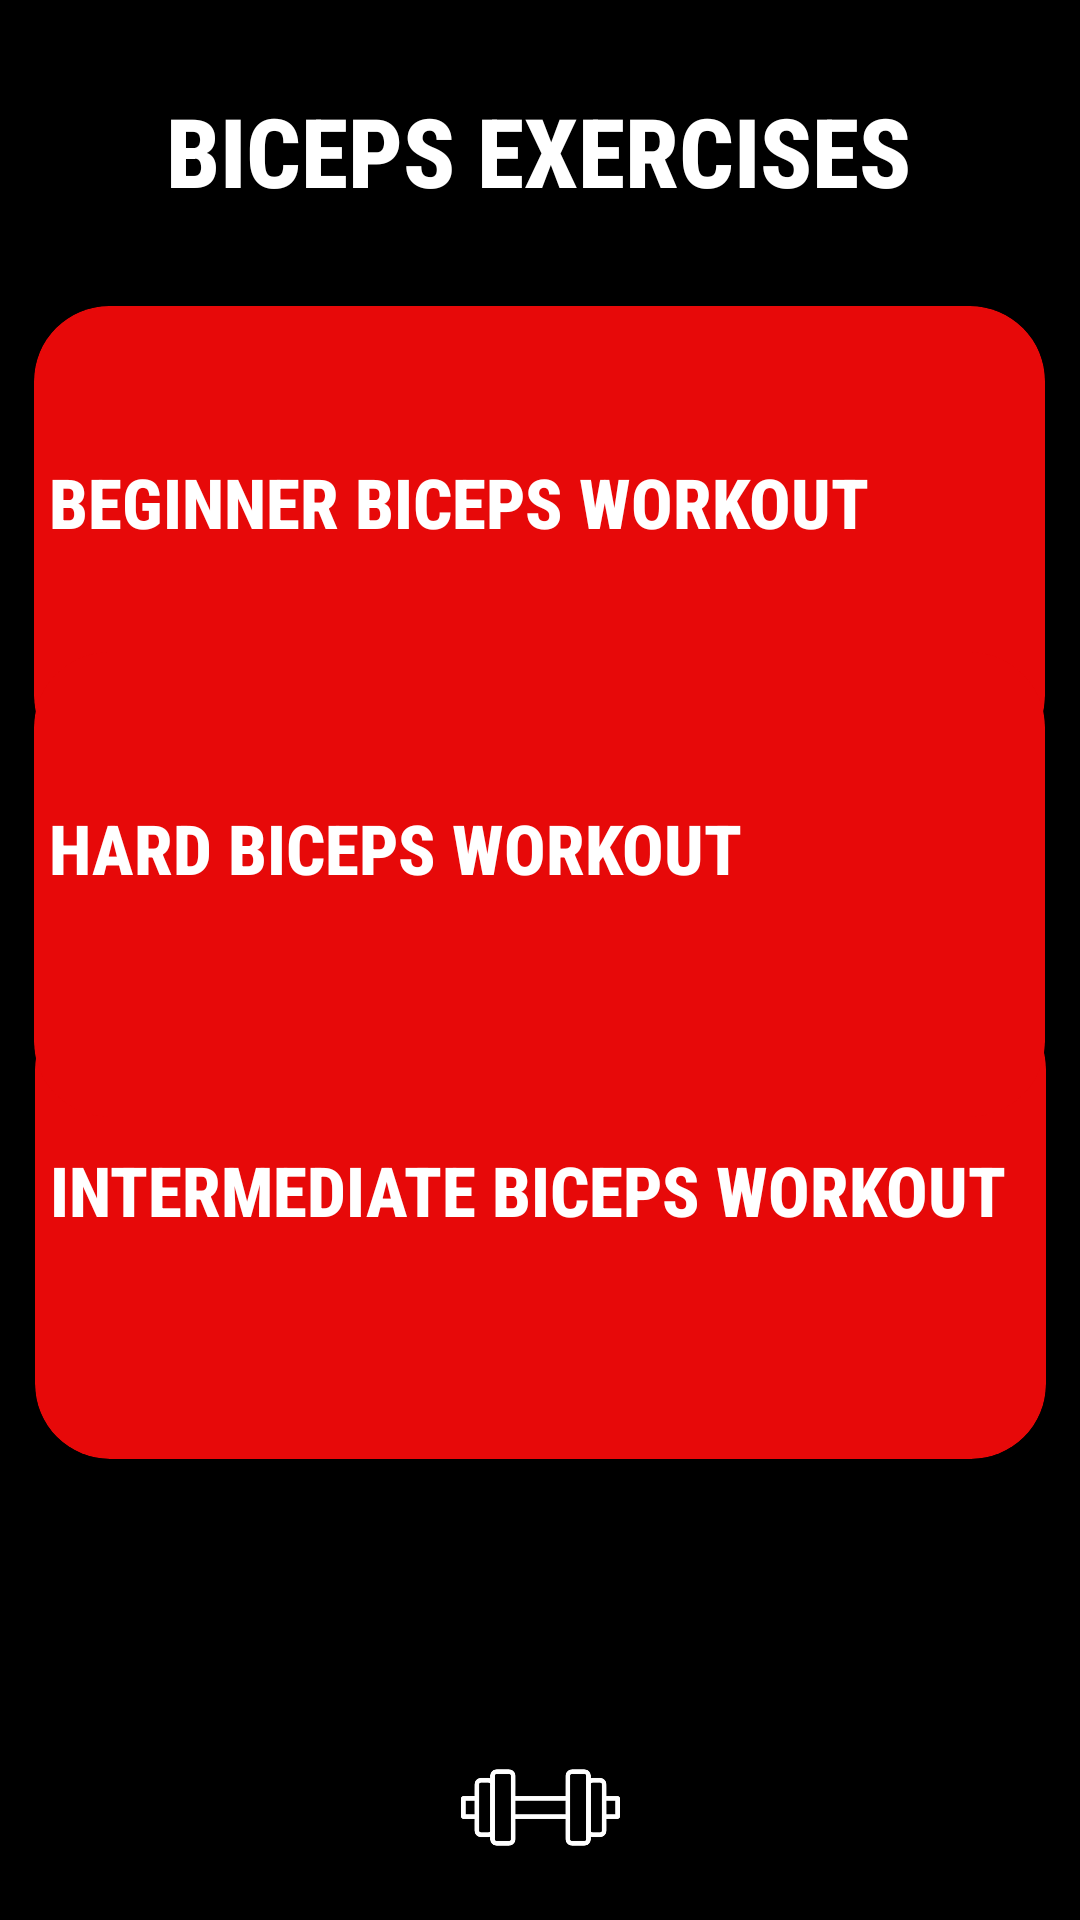

Named icons in this screenshot (1080×1920) and their bounding boxes, BBox(x1, y1, x2, y2):
imgdumbell: BBox(461, 1769, 620, 1846)
